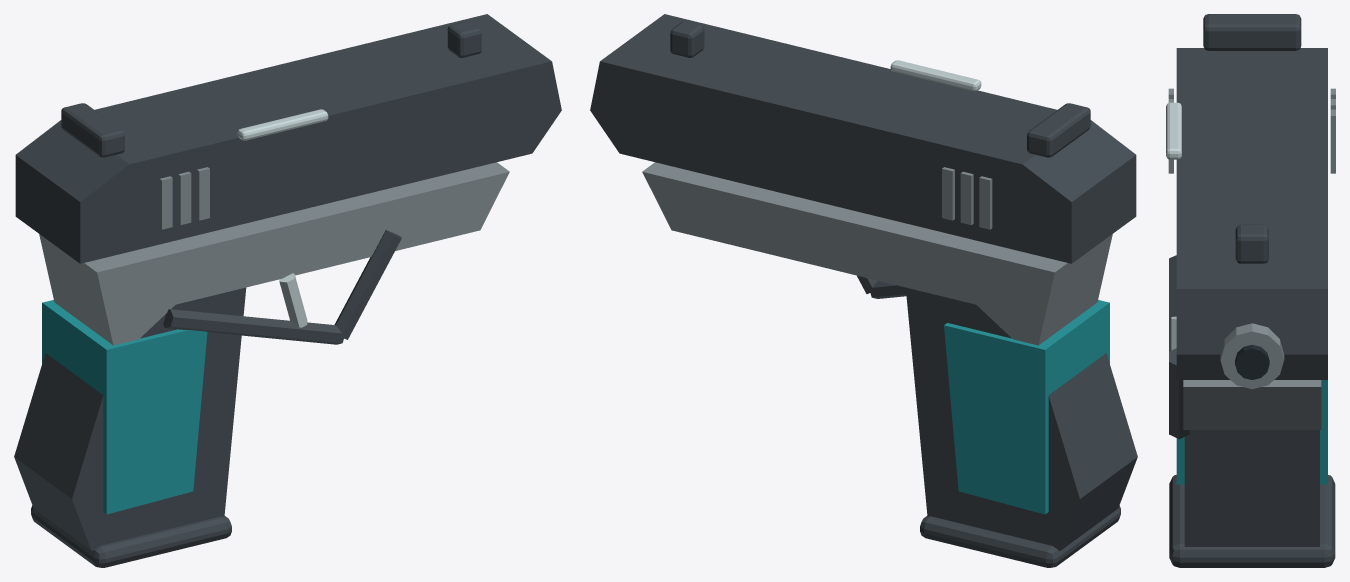
The model's file is Pistol.fbx.
The picture shows the model from 3 angles, left to right: view 1: azimuth 30°, elevation 25°; view 2: azimuth 150°, elevation 25°; view 3: azimuth 270°, elevation 25°; orthographic projection. The views are drawn at different scales.
Parts seen in each view (by area): view 1: Pistol; view 2: Pistol; view 3: Pistol.
Part boxes in pixels (x1,y1,x2,y2): Pistol: (14, 14, 561, 567); Pistol: (590, 14, 1137, 567); Pistol: (1166, 14, 1335, 567).
Size of the model in its own units: 51.25 by 41.05 by 12.8.
